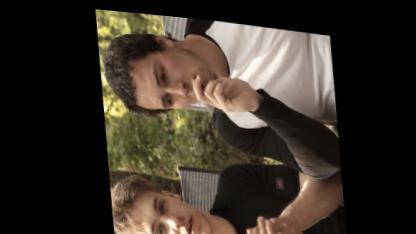knife: (201, 209, 273, 233)
